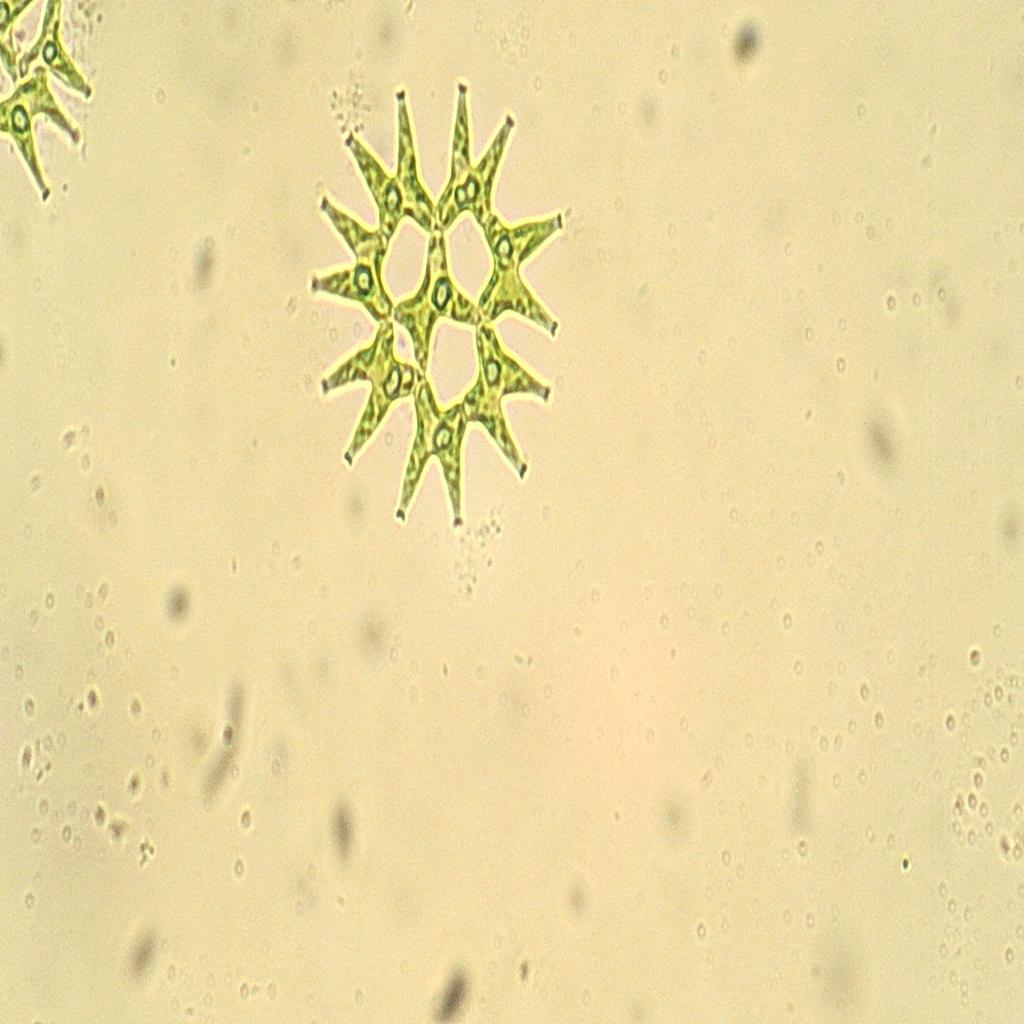Pediastrum_75T: (292, 64, 585, 556)
